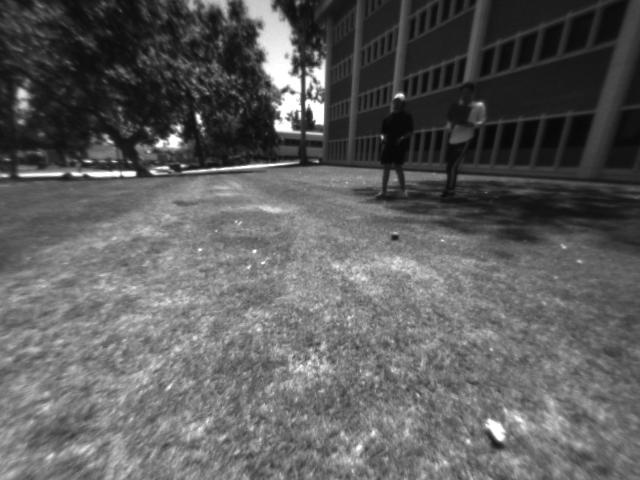dogtoy: (384, 222, 411, 250)
